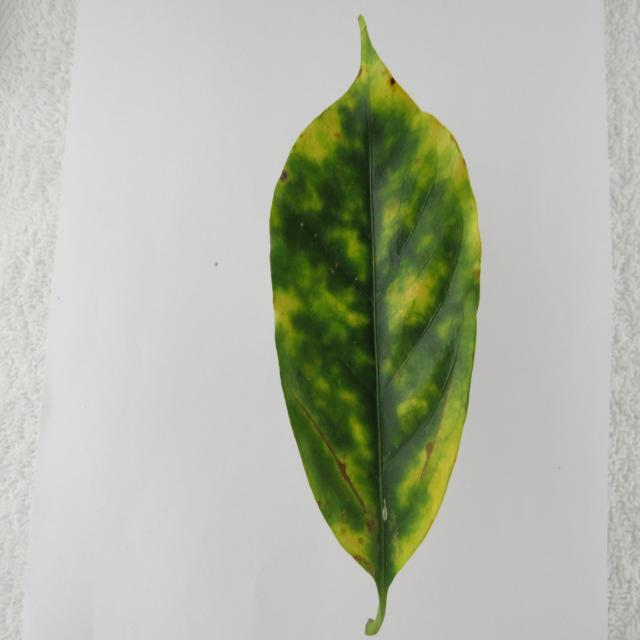DeficienciaNutricional-Manganeso: (270, 17, 481, 635)
